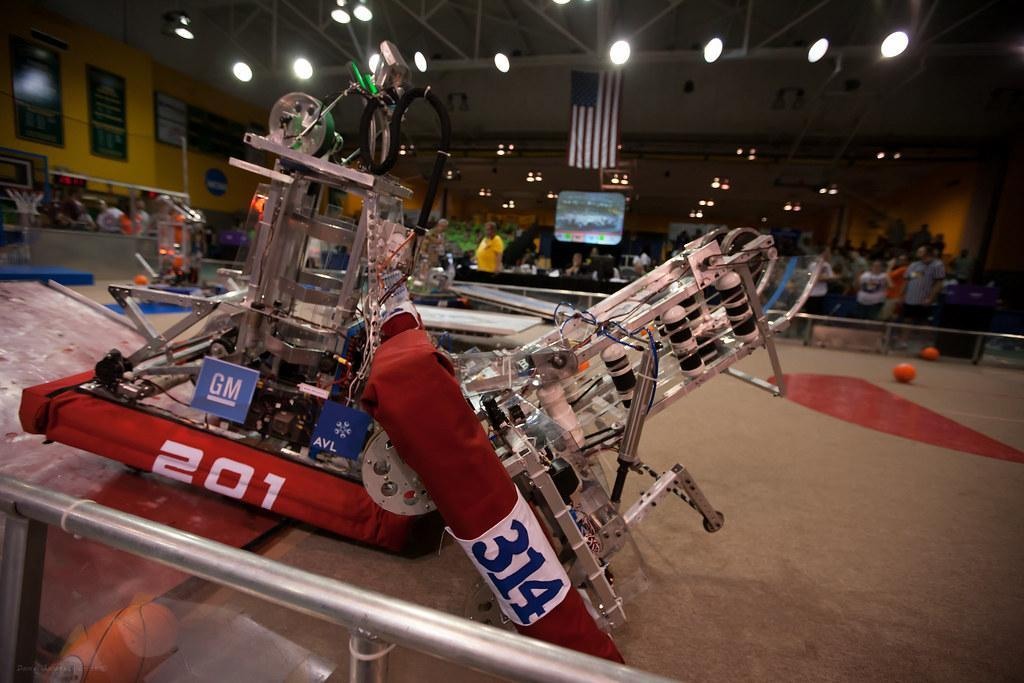robot: (13, 27, 457, 573), (359, 206, 829, 683)
